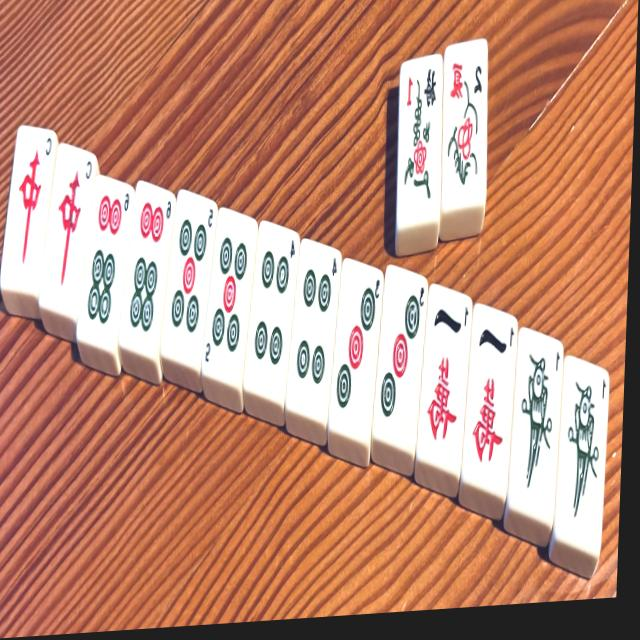f1: (398, 63, 441, 213)
ff2: (442, 35, 486, 209)
m1: (465, 299, 519, 478), (425, 301, 468, 459)
s1: (555, 351, 612, 555), (512, 346, 560, 502)
t3: (376, 283, 426, 427), (334, 279, 379, 423)
t4: (294, 251, 339, 403), (251, 230, 295, 375)
t5: (168, 198, 214, 351), (205, 218, 250, 369)
t6: (84, 178, 131, 341), (128, 183, 173, 345)
zhong: (1, 120, 54, 294), (45, 156, 92, 305)
